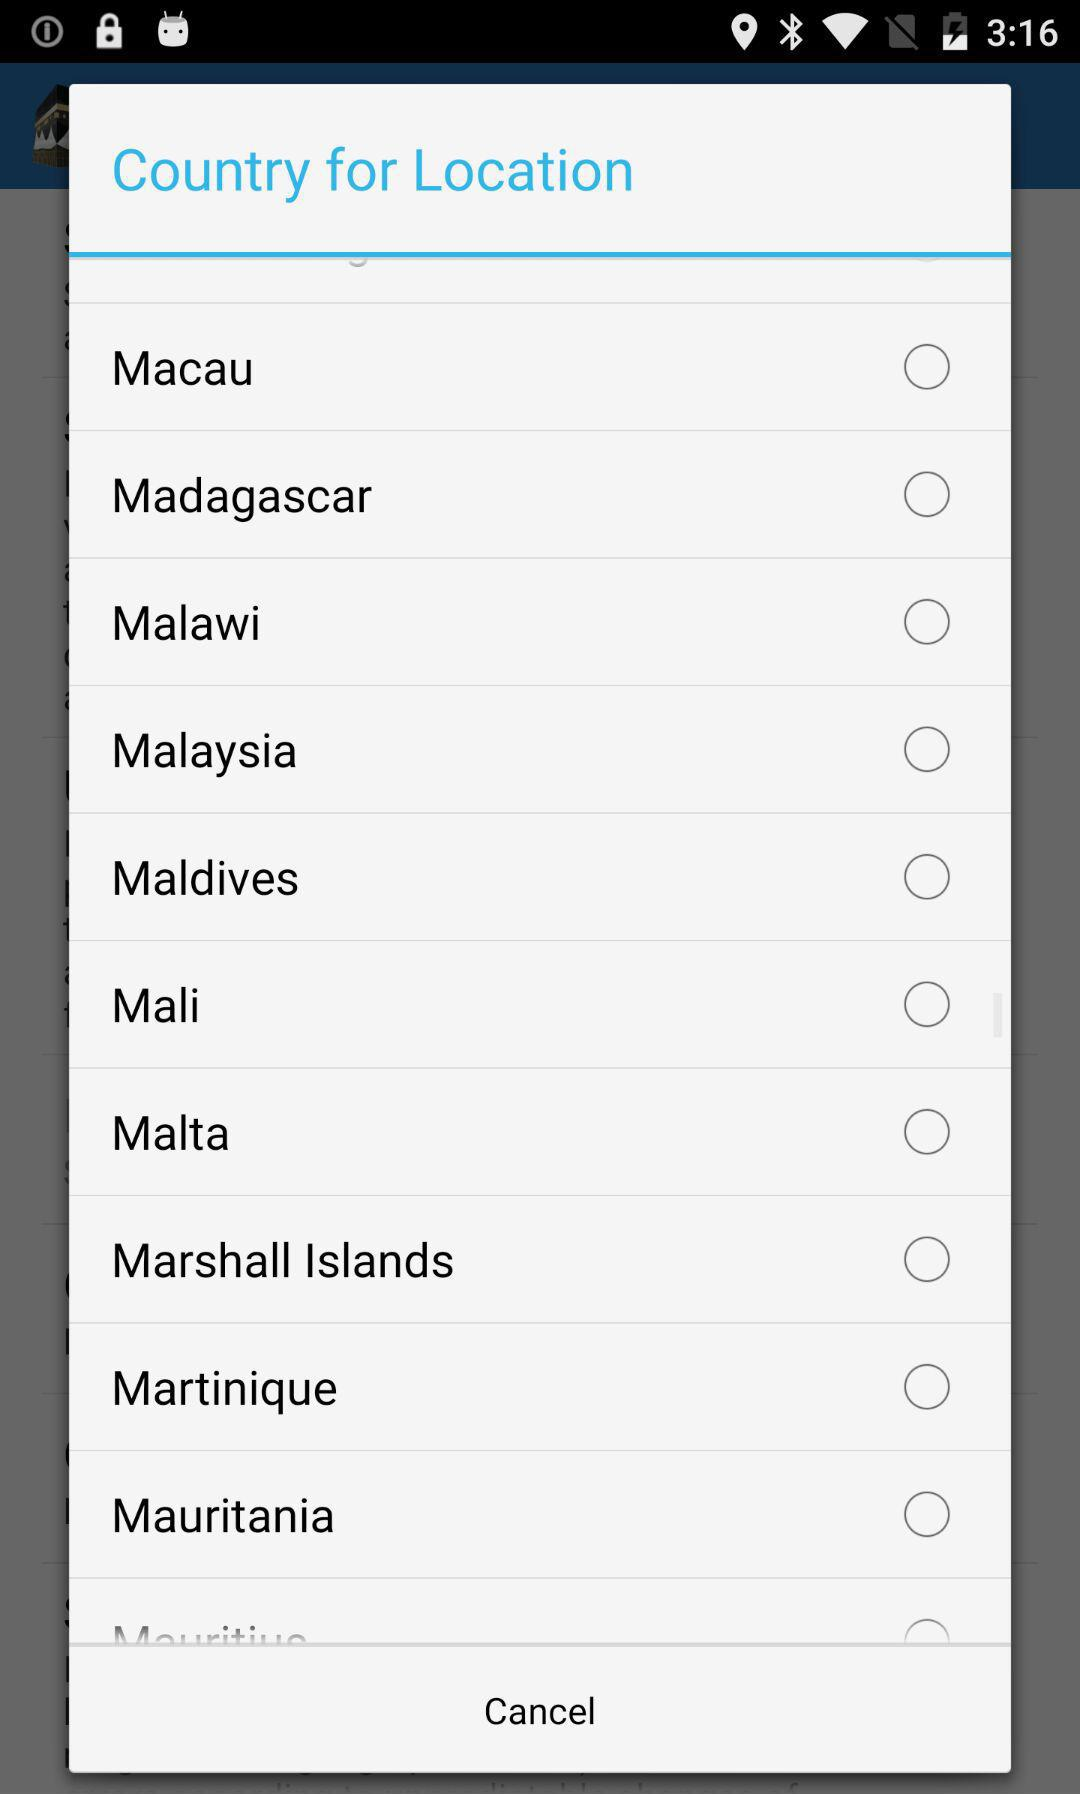CheckedTextView: (114, 725, 951, 780), (114, 472, 951, 524), (114, 1363, 951, 1416), (114, 343, 951, 392), (114, 853, 951, 902), (115, 980, 951, 1029), (114, 598, 951, 646), (114, 1108, 951, 1156), (114, 1235, 951, 1283), (114, 1490, 951, 1538)
Modal: (69, 85, 1012, 1773)
Text: (114, 146, 633, 205), (114, 1240, 455, 1280), (114, 475, 373, 524), (114, 1369, 338, 1416), (114, 730, 299, 780), (114, 1495, 334, 1534), (114, 859, 299, 897), (114, 604, 260, 642), (114, 350, 252, 388), (114, 1112, 229, 1152), (115, 985, 200, 1024)
TextButton: (70, 1645, 1011, 1773)
